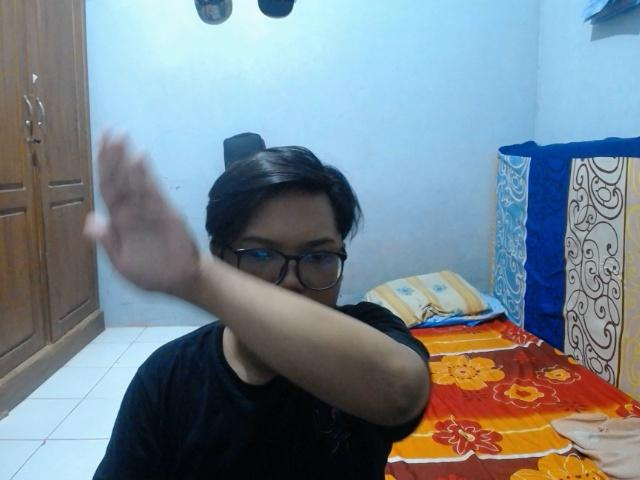Release: (76, 124, 202, 303)
